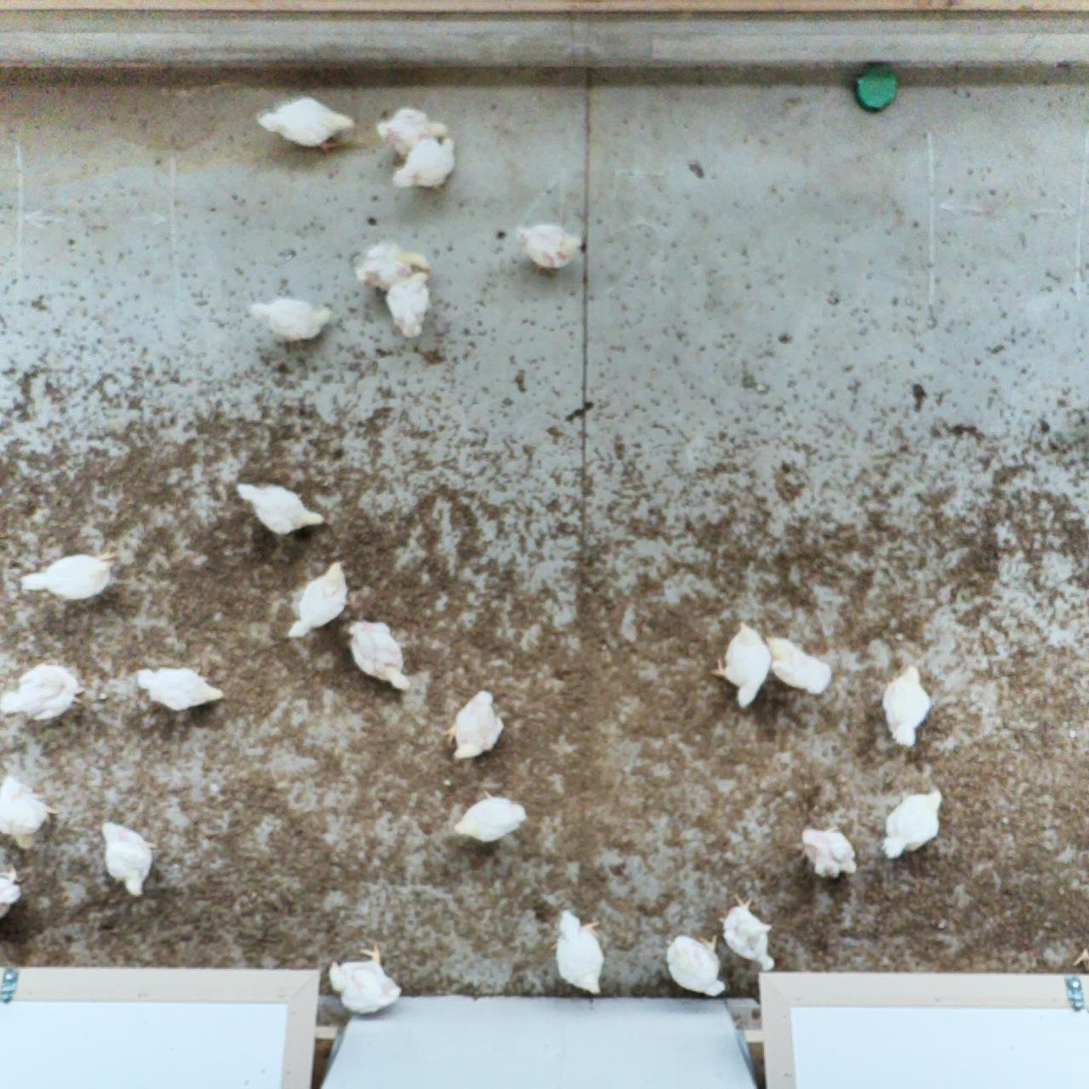chicken: (15, 538, 122, 607), (254, 90, 361, 157), (706, 616, 774, 714), (323, 938, 405, 1019), (339, 613, 413, 699), (284, 556, 355, 644), (233, 478, 327, 543), (0, 658, 88, 727), (545, 907, 612, 997), (438, 685, 510, 766), (713, 891, 781, 976), (877, 785, 945, 867), (130, 660, 230, 714), (97, 817, 162, 900), (660, 929, 731, 1003), (877, 661, 935, 751), (763, 633, 836, 703), (249, 294, 336, 351), (449, 785, 531, 845), (793, 818, 862, 887), (349, 234, 432, 291), (373, 101, 450, 161), (510, 220, 586, 279), (391, 134, 462, 196), (0, 774, 61, 846), (380, 264, 435, 341)
